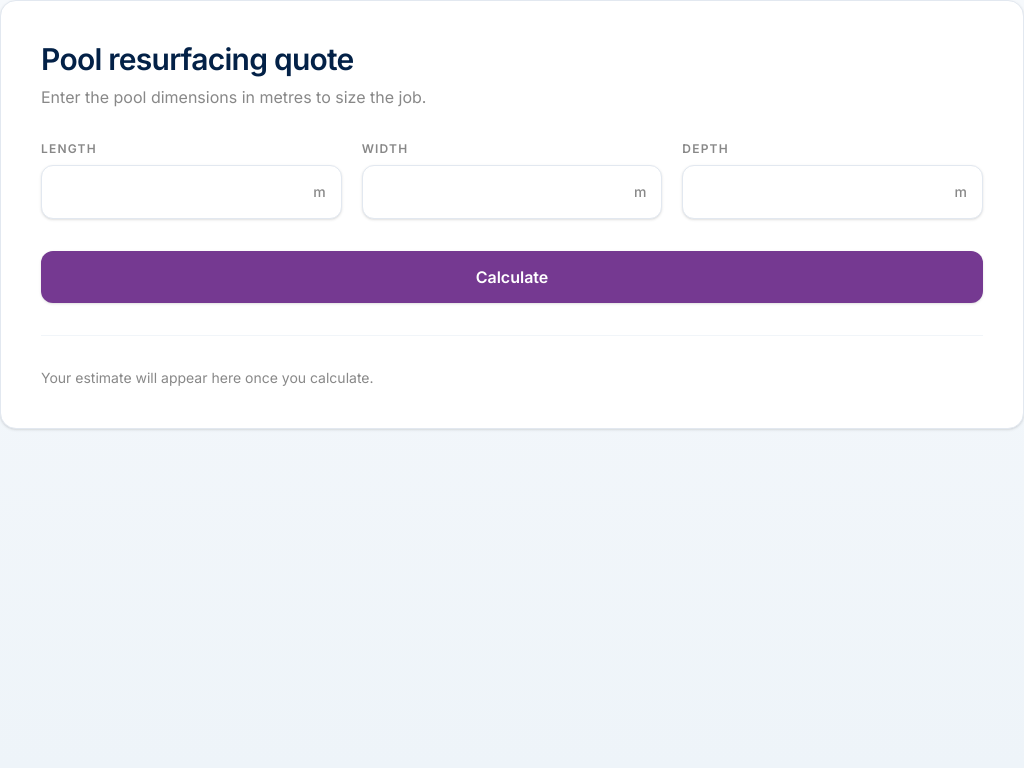
Test: Calculator › uses the updated base cost without a remount
Type "2" into the number field labelled "Length" at (191, 192), box [41, 165, 342, 219]
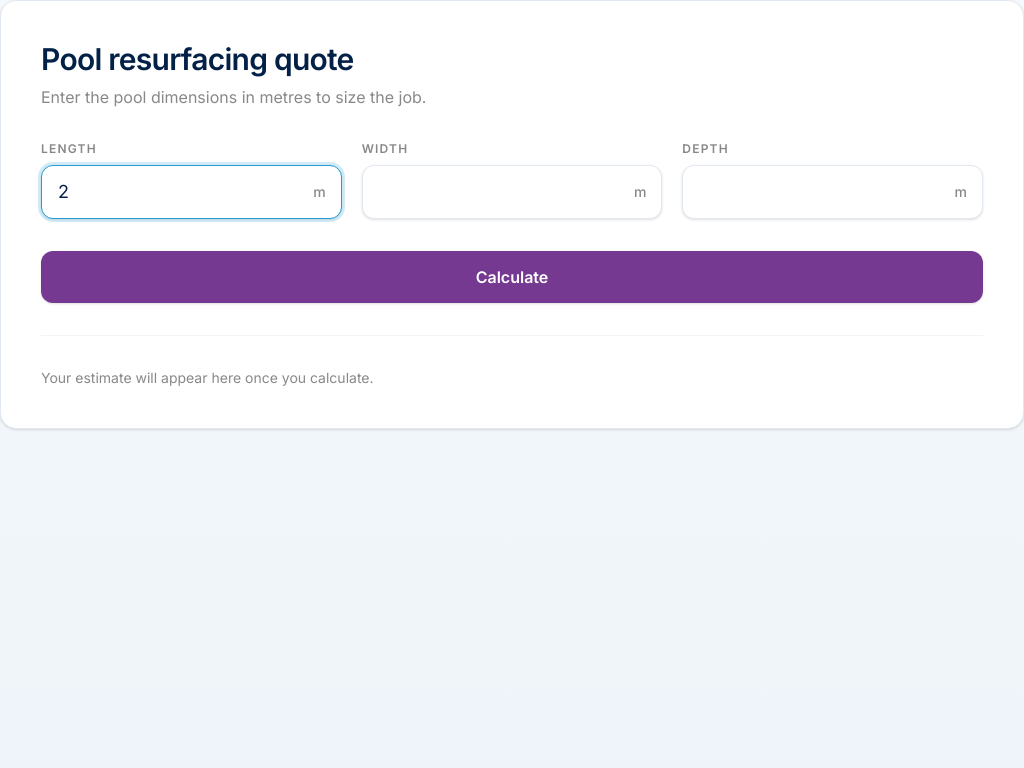
Type "2" into the number field labelled "Width" at (512, 192), box [362, 165, 662, 219]
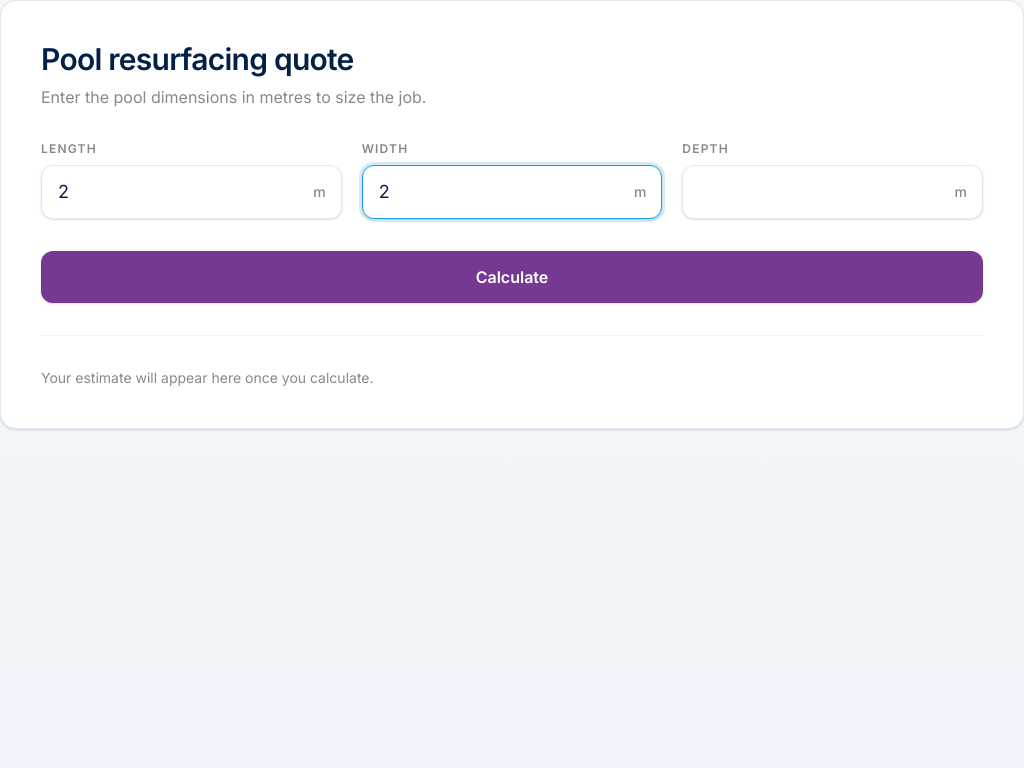
Type "2" into the number field labelled "Depth" at (833, 192), box [682, 165, 983, 219]
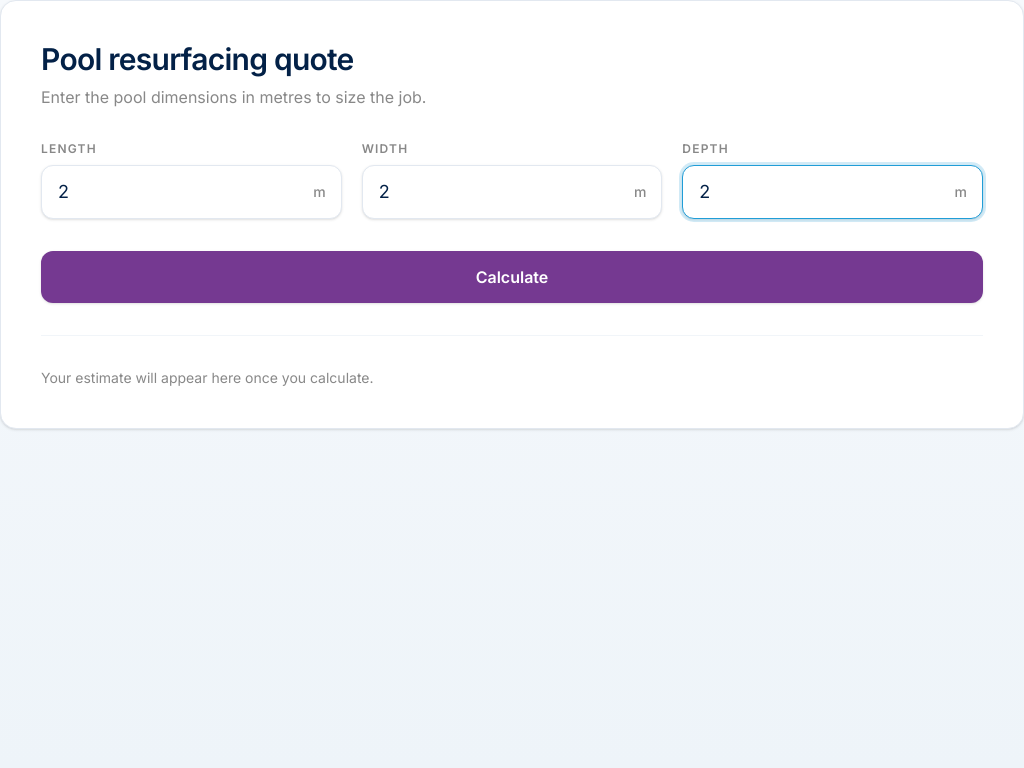
Click the button "Calculate" at (512, 277), box [41, 251, 983, 303]
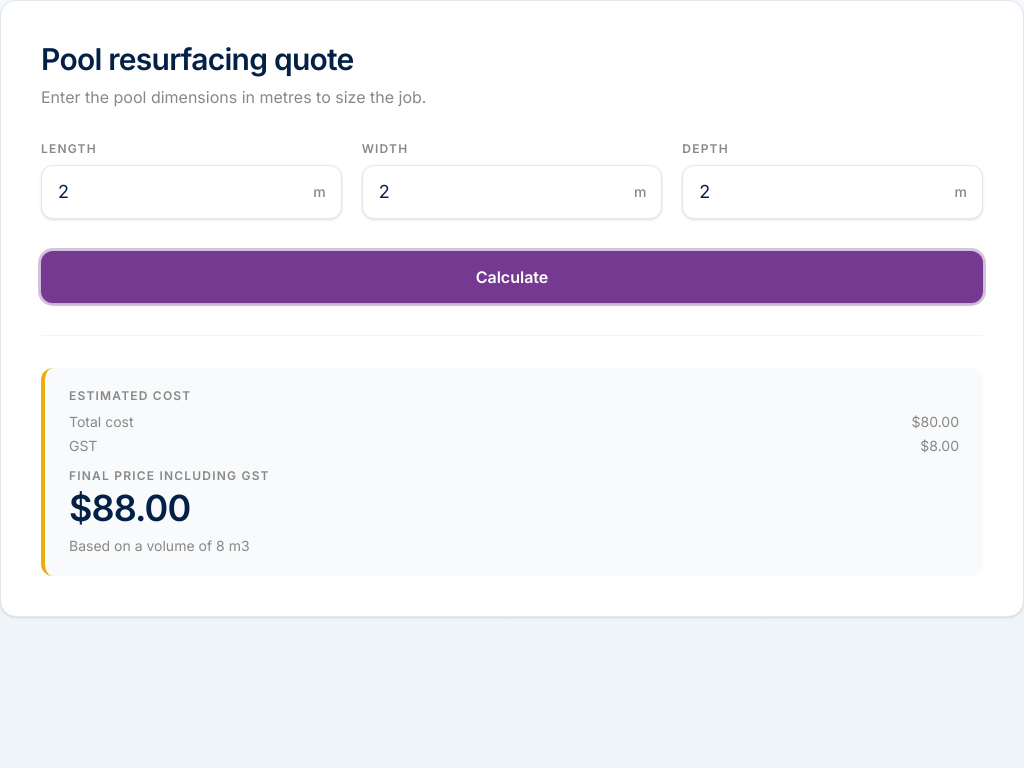
Now the text "$88.00" is shown, box [69, 486, 190, 530]
Click the button "Calculate" at (512, 277), box [41, 251, 983, 303]
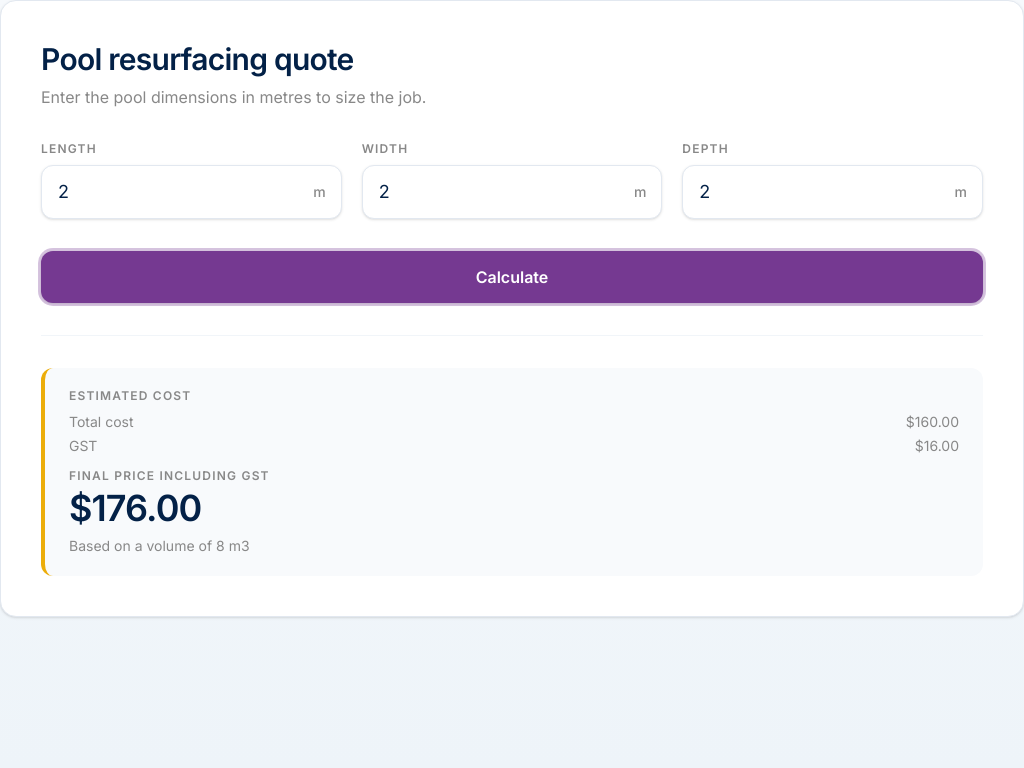
Now the text "$176.00" is shown, box [69, 486, 201, 530]
